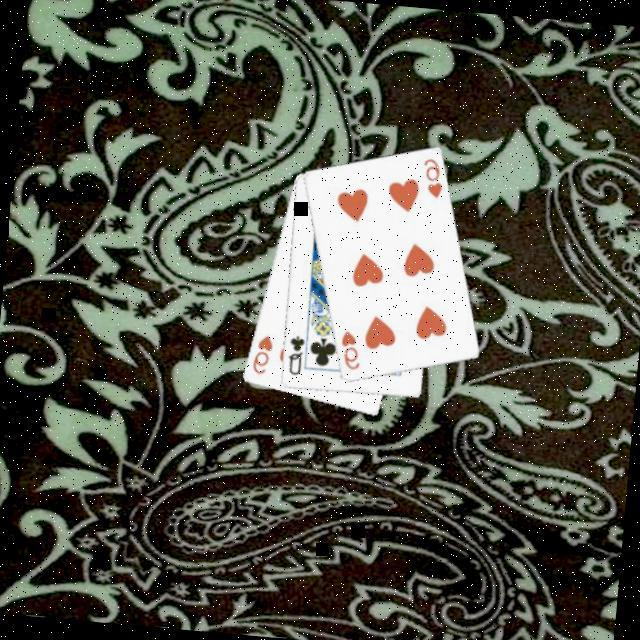6H: (333, 326, 363, 372), (415, 154, 445, 200), (246, 331, 274, 377)
QC: (281, 330, 306, 378)
